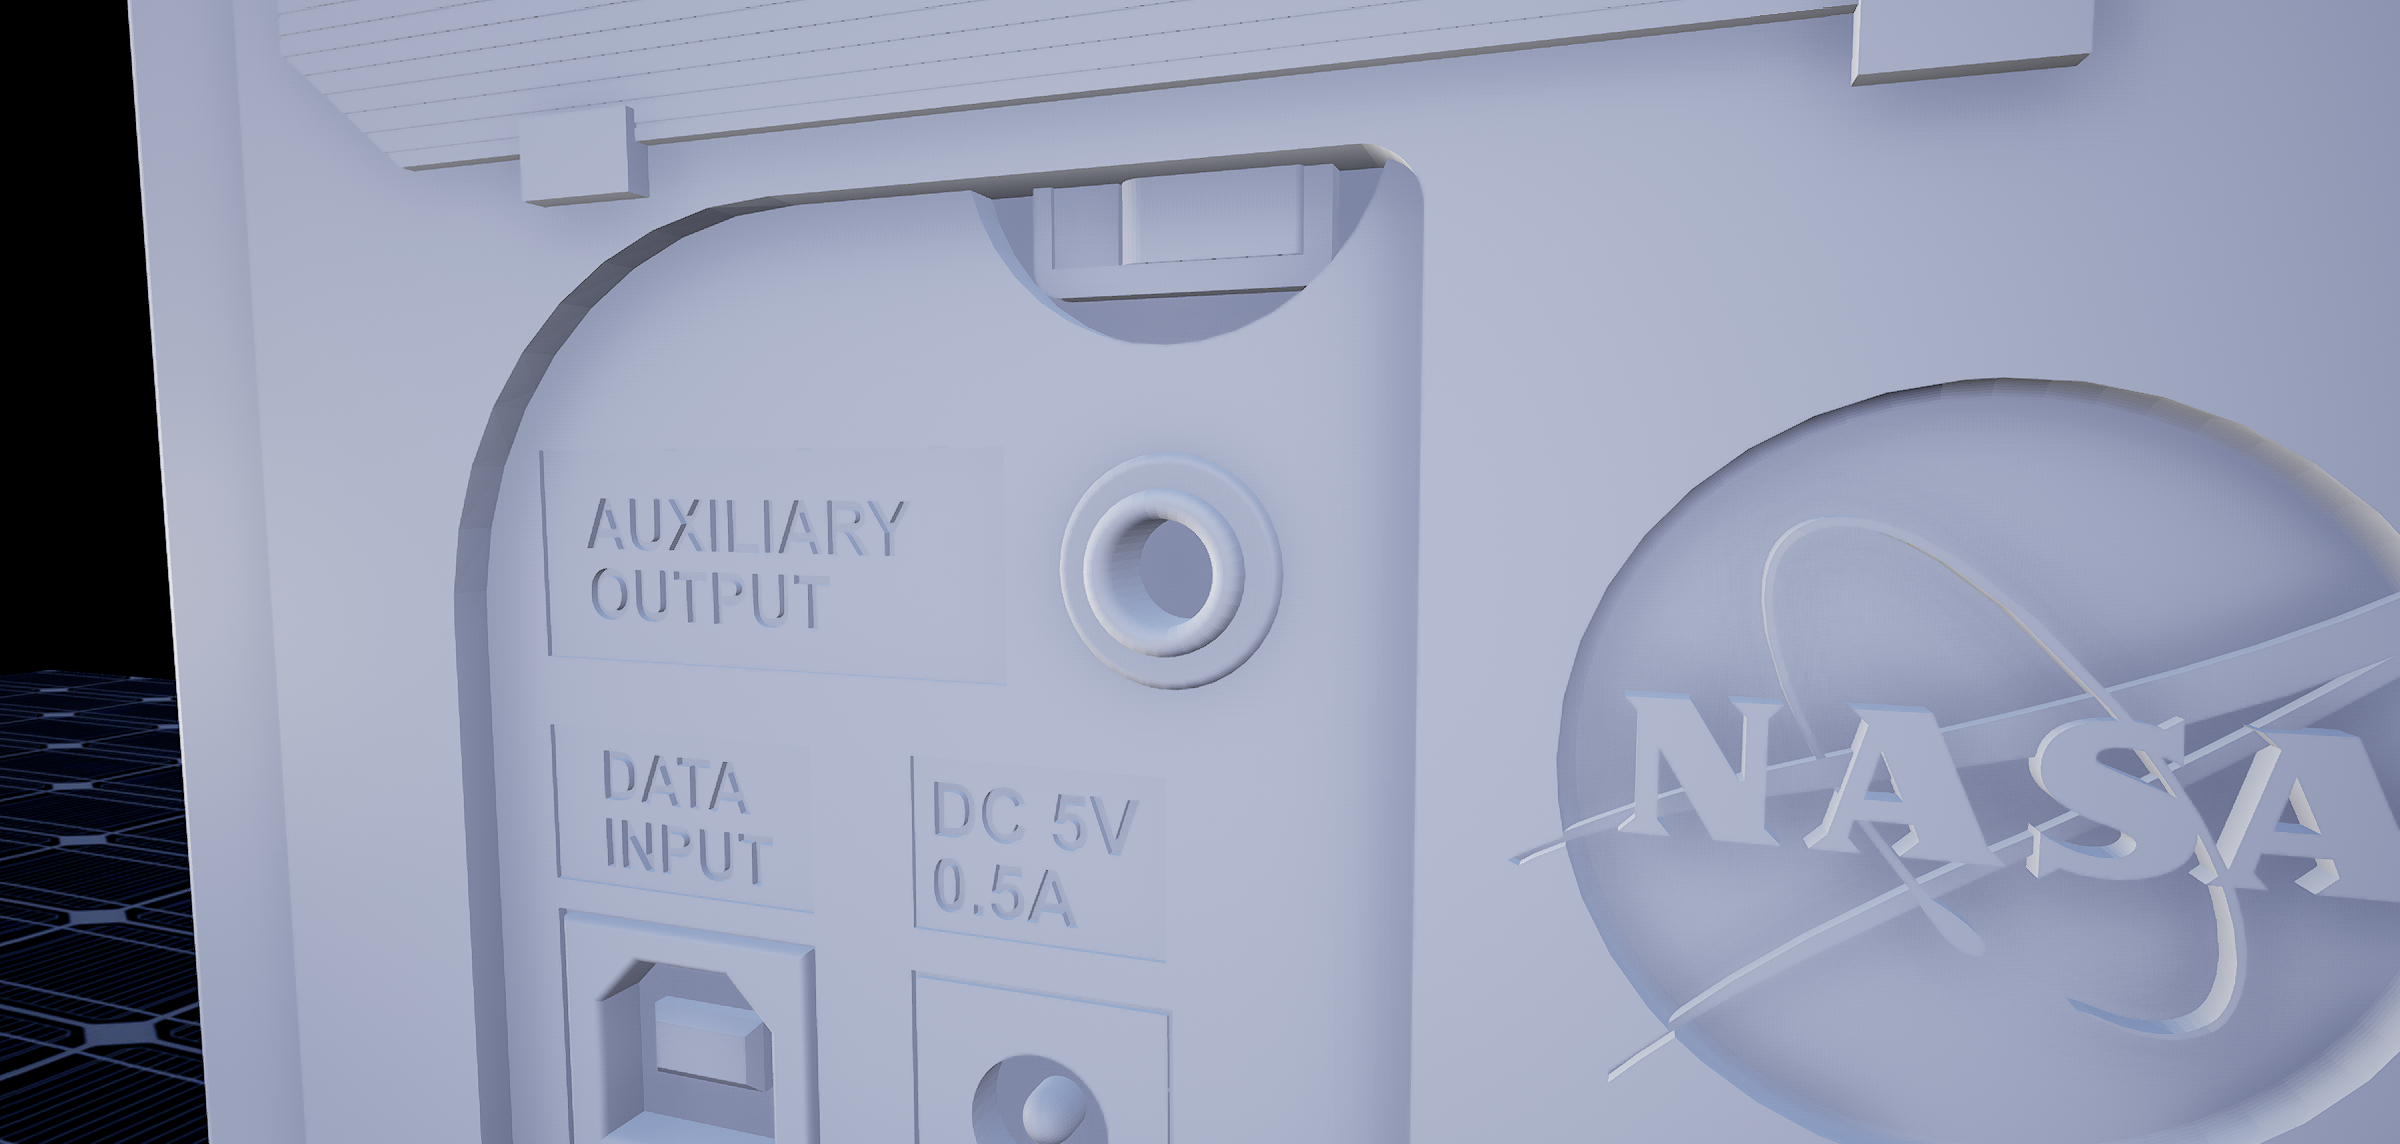aux: (1050, 449, 1299, 708)
dc: (957, 1044, 1130, 1144)
usb: (551, 914, 813, 1144)
